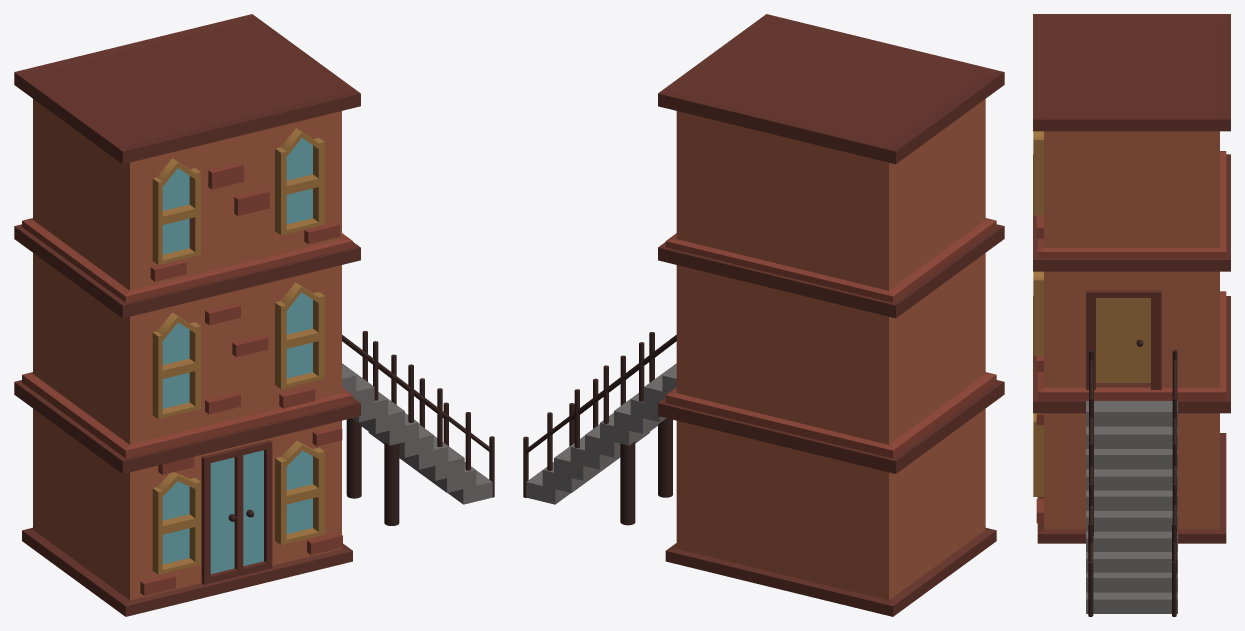
Rendered from Building#1.fbx.
3 renders of one model, left to right at view 1: azimuth 30°, elevation 25°; view 2: azimuth 150°, elevation 25°; view 3: azimuth 270°, elevation 25°, orthographic. The views are drawn at different scales.
Parts seen in each view (by area): view 1: pCube40, pCube42, pCube41, pCube43, pCylinder20, pCylinder21, pCylinder22; view 2: pCube40, pCube42, pCube41, pCube43, pCylinder22, pCylinder20, pCylinder21; view 3: pCube40, pCube41, pCube43, pCube42, pCylinder22, pCylinder21.
Part boxes in pixels (<box>): pCube40: <box>14,14,360,302</box>; pCube42: <box>14,380,360,616</box>; pCube41: <box>14,224,360,458</box>; pCube43: <box>342,363,492,504</box>; pCylinder20: <box>346,418,399,525</box>; pCylinder21: <box>342,334,494,497</box>; pCylinder22: <box>342,331,448,445</box>; pCube40: <box>658,14,1004,302</box>; pCube42: <box>658,380,1004,616</box>; pCube41: <box>658,224,1004,458</box>; pCube43: <box>526,363,676,504</box>; pCylinder22: <box>523,335,676,497</box>; pCylinder20: <box>620,418,672,525</box>; pCylinder21: <box>569,332,676,446</box>; pCube40: <box>1033,14,1230,257</box>; pCube41: <box>1033,154,1230,399</box>; pCube43: <box>1086,401,1177,613</box>; pCube42: <box>1033,296,1230,543</box>; pCylinder22: <box>1172,350,1177,616</box>; pCylinder21: <box>1088,350,1093,616</box>.
Size of the model in its own units: 22.92 by 25.59 by 10.7.
